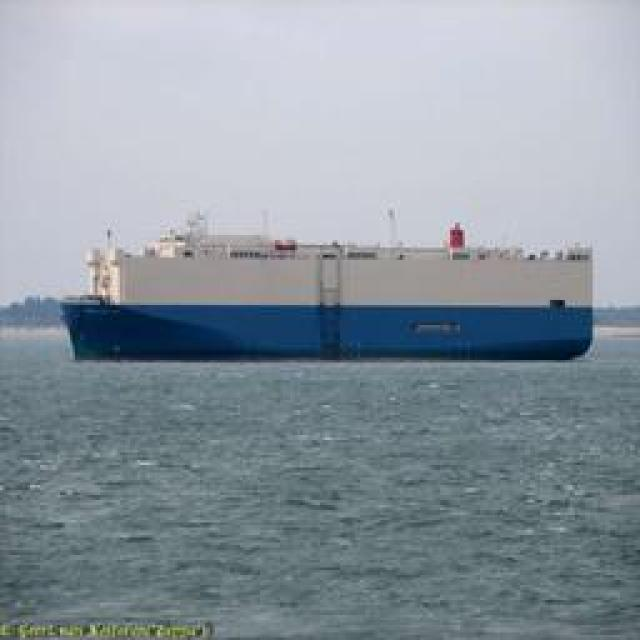CIV_Ship: (64, 215, 586, 365)
